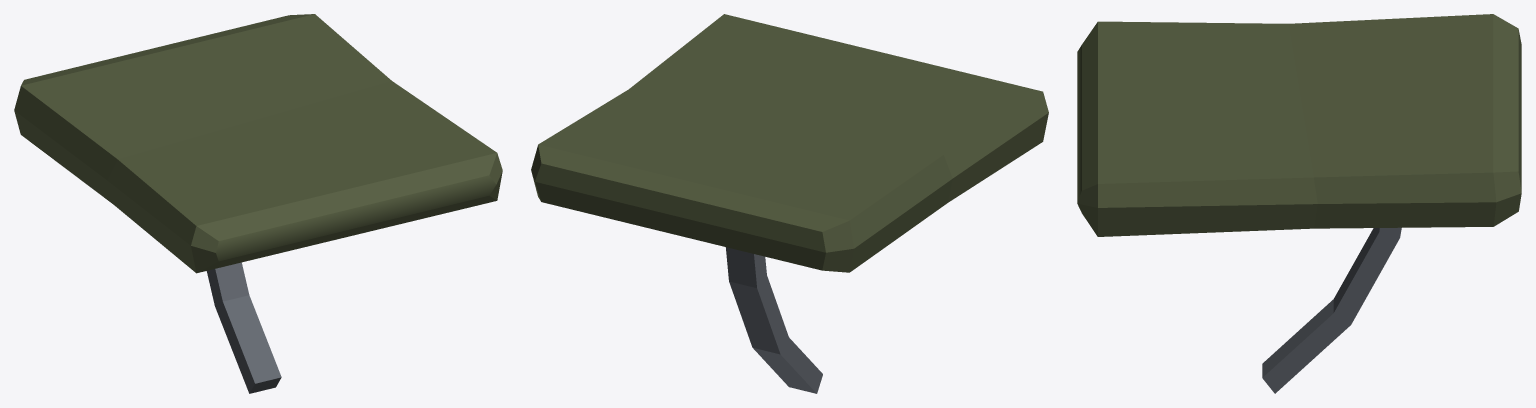
Rendered from SM_Prop_Bed_Medical_Adjust_01.fbx.
The picture shows the model from 3 angles, left to right: view 1: azimuth 30°, elevation 25°; view 2: azimuth 150°, elevation 25°; view 3: azimuth 270°, elevation 25°; orthographic projection. The views are drawn at different scales.
Parts seen in each view (by area): view 1: SM_Prop_Bed_Medical_Adjust_01; view 2: SM_Prop_Bed_Medical_Adjust_01; view 3: SM_Prop_Bed_Medical_Adjust_01.
Boxes of the visible parts, x1,y1,x2,y2 form: SM_Prop_Bed_Medical_Adjust_01: (14, 14, 502, 393); SM_Prop_Bed_Medical_Adjust_01: (531, 14, 1048, 393); SM_Prop_Bed_Medical_Adjust_01: (1077, 14, 1521, 393).
Bounding box in the file's own units: 78.46 × 64.32 × 87.61.
